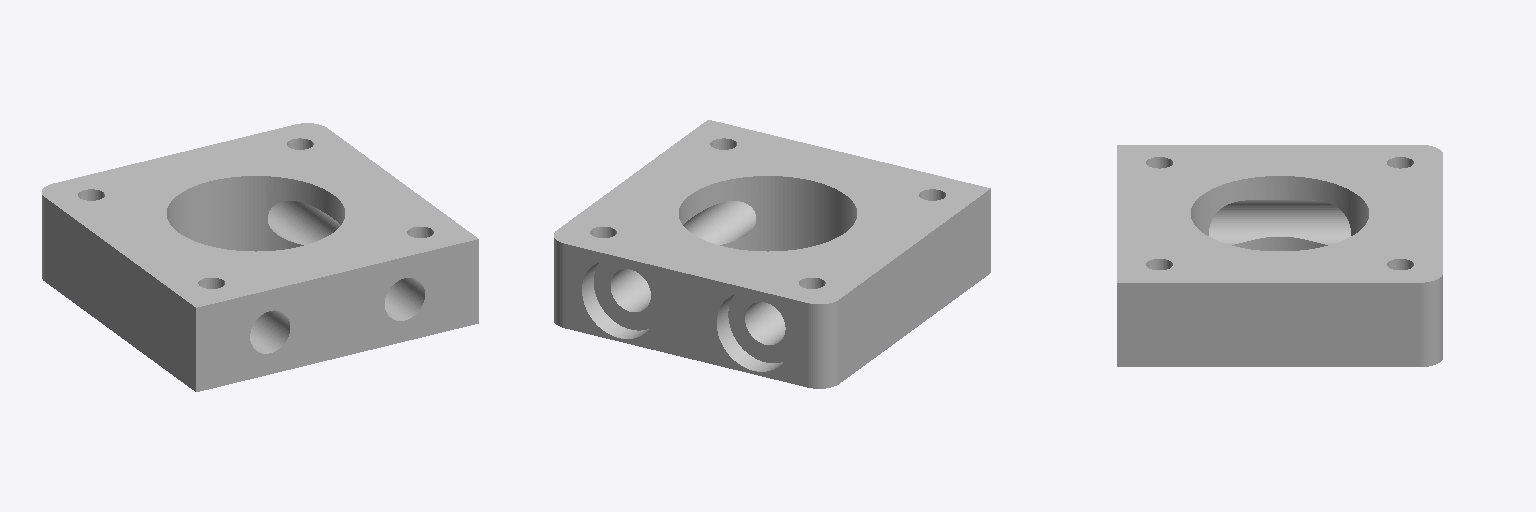
File: Z-AxisMotorMount.obj
The picture shows the model from 3 angles: view 1: azimuth 30°, elevation 25°; view 2: azimuth 150°, elevation 25°; view 3: azimuth 270°, elevation 25°; orthographic projection.
Parts seen in each view (by area): view 1: Body1; view 2: Body1; view 3: Body1.
Boxes of the visible parts, box(x1,y1,x2,y2) form: Body1: box(42, 123, 478, 391); Body1: box(554, 120, 990, 388); Body1: box(1117, 145, 1442, 366).
Bounding box in the file's own units: 42 × 12 × 42.